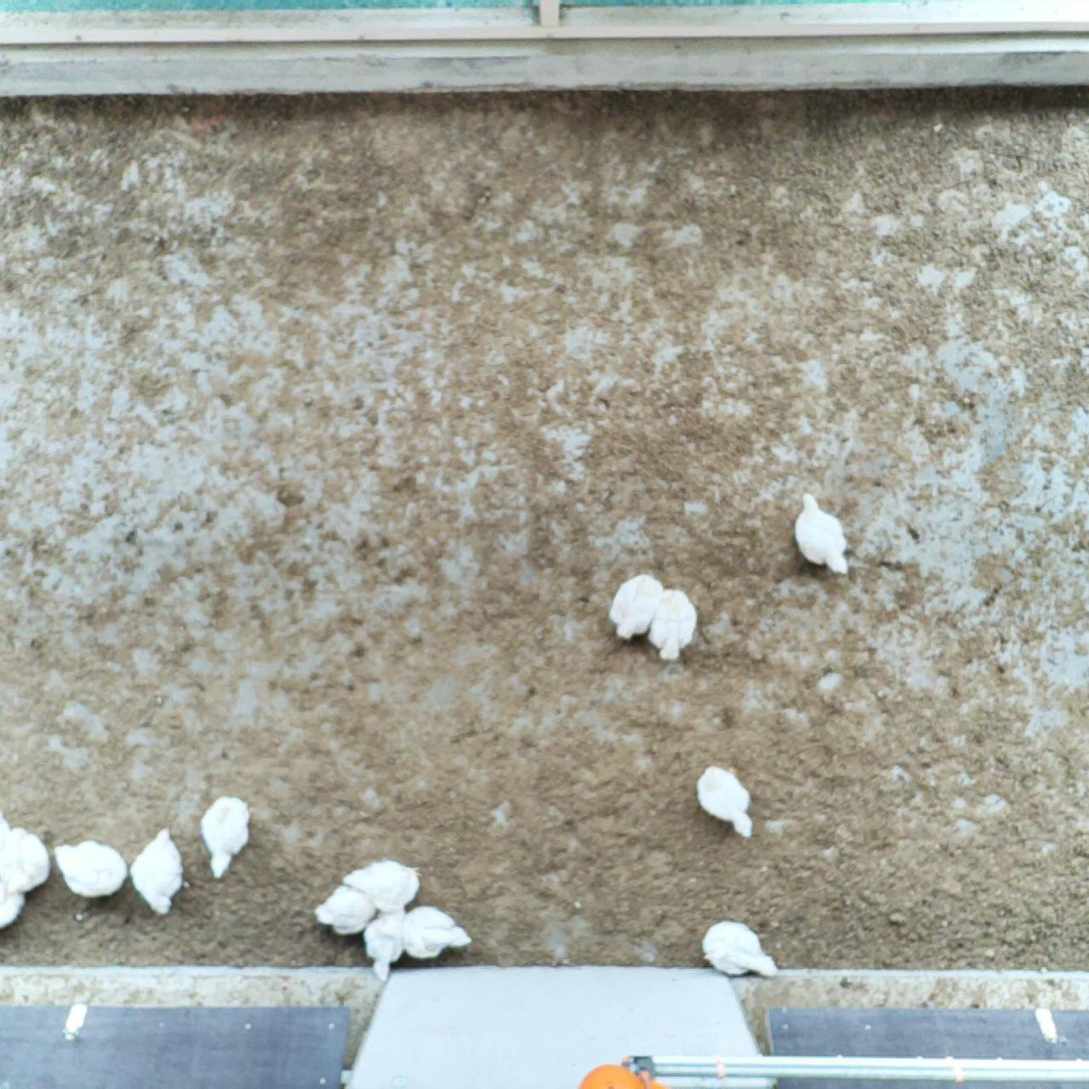chicken: (788, 489, 854, 579), (48, 834, 128, 907), (128, 826, 187, 921), (699, 918, 784, 981), (692, 762, 757, 842), (197, 793, 254, 881), (338, 858, 424, 914), (606, 570, 667, 645), (646, 586, 701, 664), (400, 904, 475, 961), (311, 880, 378, 939), (361, 908, 409, 986), (0, 820, 49, 896)
